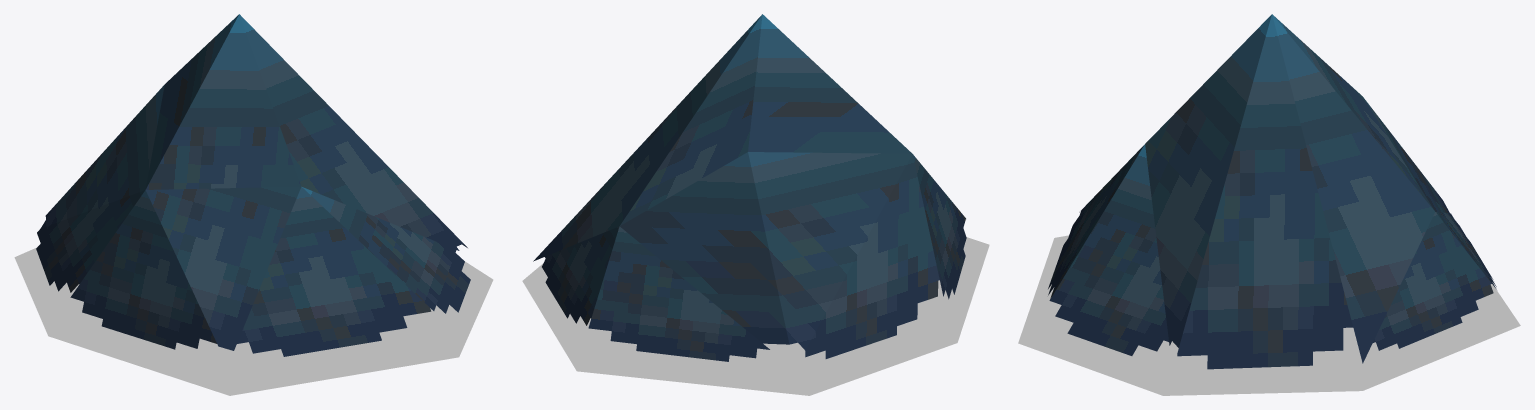
3 views of the same model, side by side, from view 1: azimuth 30°, elevation 25°; view 2: azimuth 150°, elevation 25°; view 3: azimuth 270°, elevation 25° (orthographic). The views are drawn at different scales.
Parts seen in each view (by area): view 1: polygon0, polygon1; view 2: polygon0, polygon1; view 3: polygon0, polygon1.
Boxes of the visible parts, left/top/right/bottom form: polygon0: left=36, top=14, right=470, bottom=356; polygon1: left=14, top=247, right=493, bottom=395; polygon0: left=533, top=14, right=966, bottom=361; polygon1: left=522, top=237, right=989, bottom=395; polygon0: left=1048, top=14, right=1496, bottom=369; polygon1: left=1018, top=235, right=1520, bottom=395.
Bounding box in the file's own units: 9.93 × 6.68 × 10.8.
